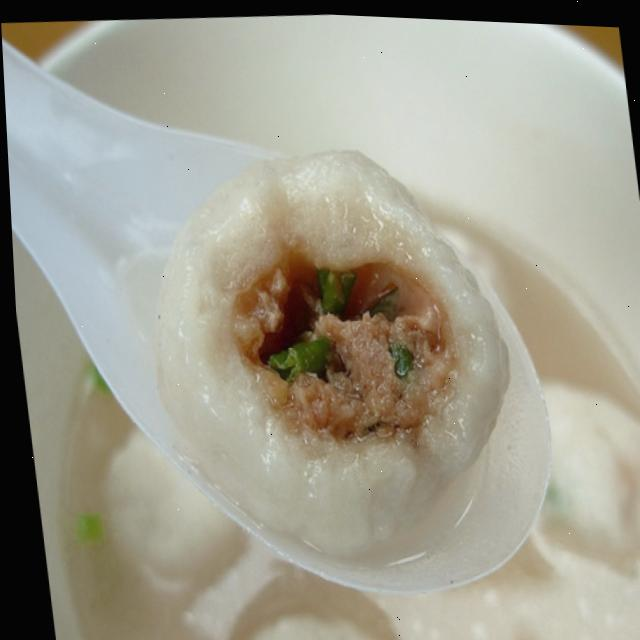熟制海鲜: (6, 23, 640, 640)
